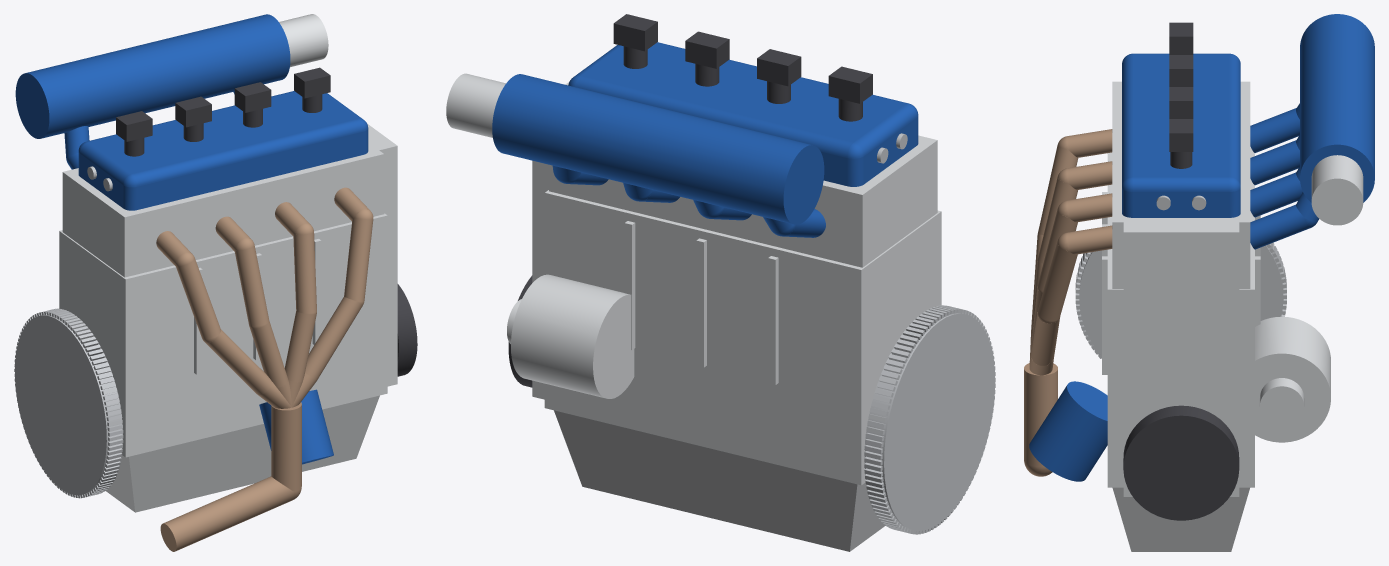
Rendered from car.glb.
3 views of the same model, side by side, from view 1: azimuth 30°, elevation 25°; view 2: azimuth 150°, elevation 25°; view 3: azimuth 270°, elevation 25° (orthographic). The views are drawn at different scales.
Parts seen in each view (by area): view 1: block, exhaust, intake, cover, head, flywheel, oilpan, coils, timingcover, oilfilter, throttle, pulley; view 2: block, intake, flywheel, oilpan, cover, head, alternator, coils, throttle, timingcover; view 3: timingcover, intake, cover, exhaust, pulley, alternator, block, oilfilter, head, oilpan, flywheel, coils (+1 smaller).
Boxes of the visible parts, box(x1,y1,x2,y2) form: block: box(59, 213, 387, 457); exhaust: box(156, 187, 373, 551); intake: box(15, 14, 290, 169); cover: box(78, 91, 368, 210); head: box(62, 142, 384, 277); flywheel: box(14, 308, 123, 498); oilpan: box(105, 395, 379, 512); coils: box(116, 67, 330, 156); timingcover: box(367, 123, 397, 386); oilfilter: box(259, 389, 333, 464); throttle: box(279, 14, 328, 67); pulley: box(397, 284, 417, 376); block: box(544, 190, 941, 485); intake: box(492, 74, 825, 237); flywheel: box(864, 305, 995, 534); oilpan: box(554, 410, 885, 551); cover: box(568, 42, 918, 186); head: box(549, 135, 937, 267); alternator: box(507, 274, 634, 398); coils: box(613, 14, 872, 121); throttle: box(446, 73, 505, 137); timingcover: box(532, 82, 568, 399); timingcover: box(1123, 222, 1239, 496); intake: box(1250, 14, 1374, 249); cover: box(1122, 53, 1240, 217); exhaust: box(1024, 129, 1112, 476); pulley: box(1123, 405, 1239, 520); alternator: box(1255, 316, 1330, 442); block: box(1102, 147, 1260, 487); oilfilter: box(1029, 381, 1107, 481); head: box(1112, 81, 1250, 288); oilpan: box(1112, 487, 1249, 551); flywheel: box(1075, 242, 1286, 358); coils: box(1169, 22, 1193, 168).
Bounding box in the file's own units: 0.535 × 0.5877 × 0.4428.
